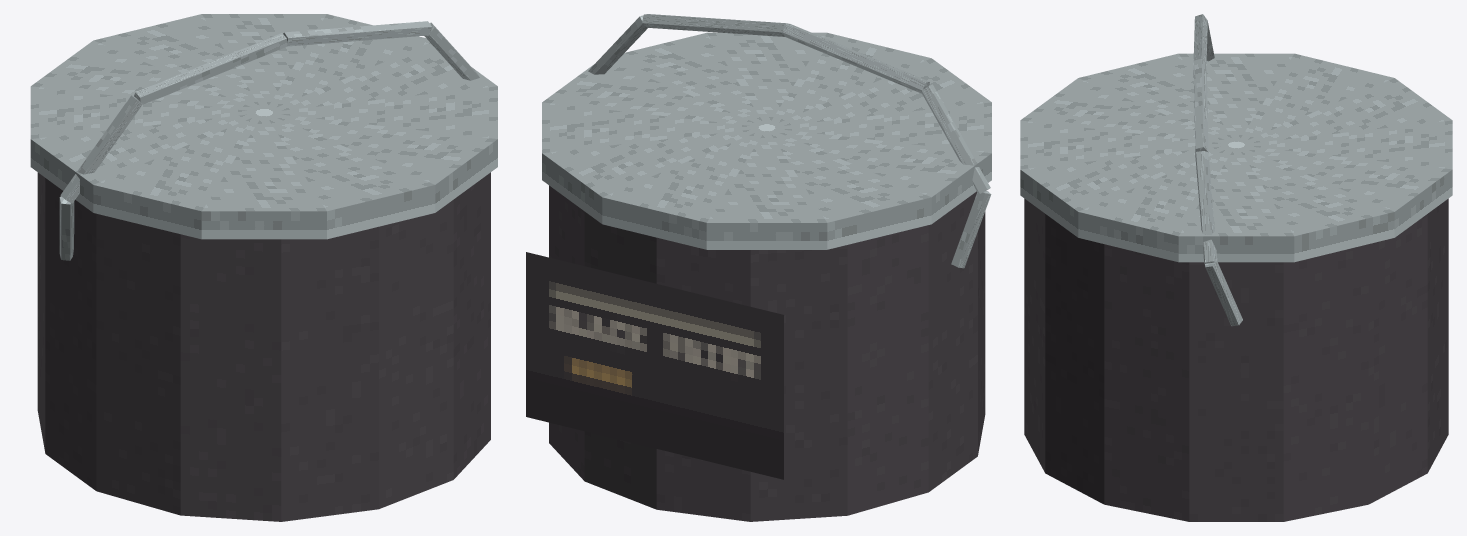
The model's file is paint_black.glb.
3 views of the same model, side by side, from view 1: azimuth 30°, elevation 25°; view 2: azimuth 150°, elevation 25°; view 3: azimuth 270°, elevation 25° (orthographic). The views are drawn at different scales.
Parts seen in each view (by area): view 1: block_body, block_paint bucket lid, block_wire carry bail 2, block_wire carry bail 3, block_wire carry bail 1, block_wire carry bail 4, block_wire carry bail 0; view 2: block_body, block_paint bucket lid, block_paint label, block_wire carry bail 2, block_wire carry bail 3, block_wire carry bail 1, block_wire carry bail 0, block_wire carry bail 4; view 3: block_body, block_paint bucket lid, block_wire carry bail 4, block_wire carry bail 3, block_wire carry bail 5, block_wire carry bail 2.
Boxes of the visible parts, x1,y1,x2,y2 form: block_body: [37, 172, 490, 521]; block_paint bucket lid: [30, 14, 497, 239]; block_wire carry bail 2: [134, 33, 287, 104]; block_wire carry bail 3: [283, 21, 431, 46]; block_wire carry bail 1: [60, 95, 142, 203]; block_wire carry bail 4: [424, 22, 479, 80]; block_wire carry bail 0: [59, 196, 74, 260]; block_body: [549, 185, 985, 521]; block_paint bucket lid: [542, 32, 991, 249]; block_paint label: [526, 252, 783, 479]; block_wire carry bail 2: [782, 23, 929, 93]; block_wire carry bail 3: [642, 14, 788, 36]; block_wire carry bail 1: [921, 84, 990, 193]; block_wire carry bail 0: [951, 191, 991, 268]; block_wire carry bail 4: [588, 15, 647, 74]; block_body: [1024, 198, 1448, 521]; block_paint bucket lid: [1020, 53, 1452, 262]; block_wire carry bail 4: [1195, 151, 1217, 264]; block_wire carry bail 3: [1193, 58, 1208, 152]; block_wire carry bail 5: [1205, 260, 1242, 326]; block_wire carry bail 2: [1193, 14, 1207, 63].
Size of the model in its own units: 0.2967 by 0.2663 by 0.276.
Materials: 2 (2 with a texture image).
